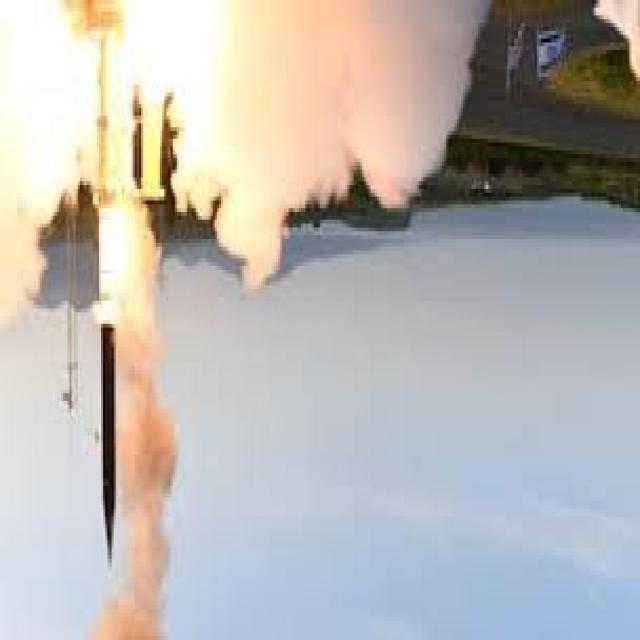Missile: (96, 314, 121, 580)
